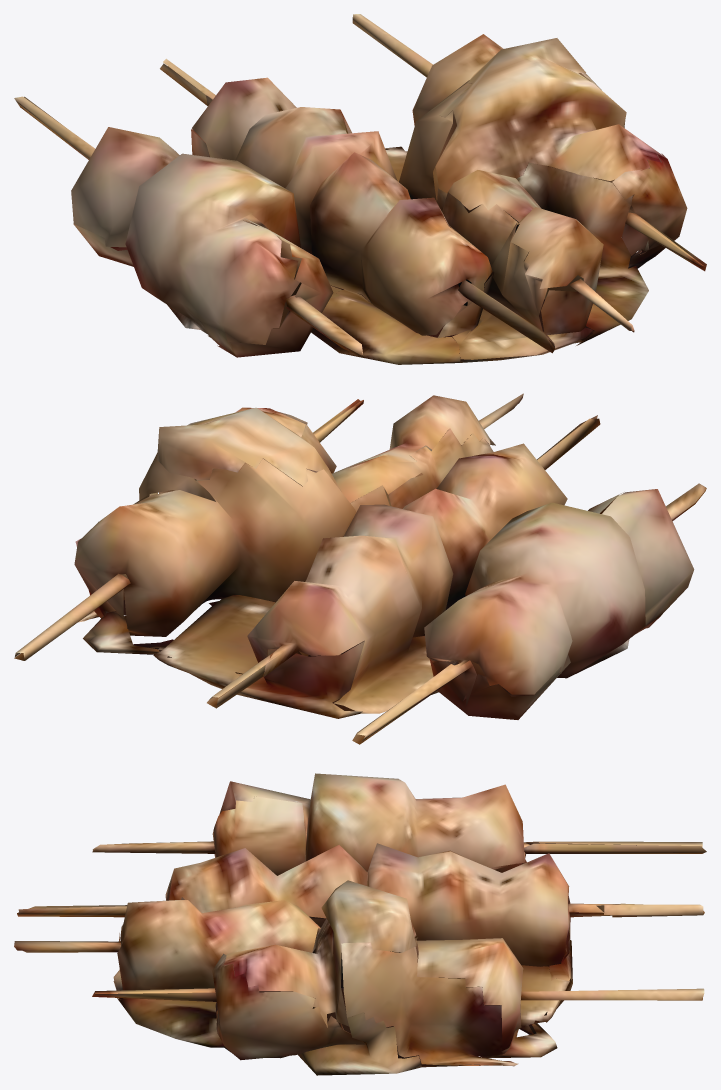
File: pickup_sate.glb
3 views of the same model, one above another, from view 1: azimuth 30°, elevation 25°; view 2: azimuth 150°, elevation 25°; view 3: azimuth 270°, elevation 25° (orthographic). The views are drawn at different scales.
Visible parts, largest first — view 1: pickup_sate; view 2: pickup_sate; view 3: pickup_sate.
Part boxes in pixels (x1,y1,x2,y2): pickup_sate: (14, 14, 706, 364); pickup_sate: (14, 393, 706, 744); pickup_sate: (14, 773, 706, 1075).
Bounding box in the file's own units: 0.3251 × 0.1077 × 0.4502.
Materials: 1 (1 with a texture image).
